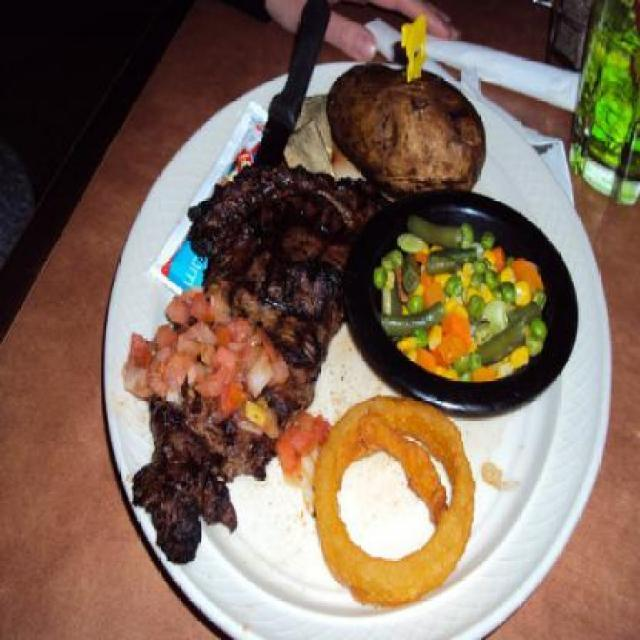Steak: (139, 157, 344, 597)
